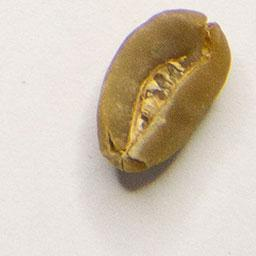longberry: (91, 6, 235, 177)
